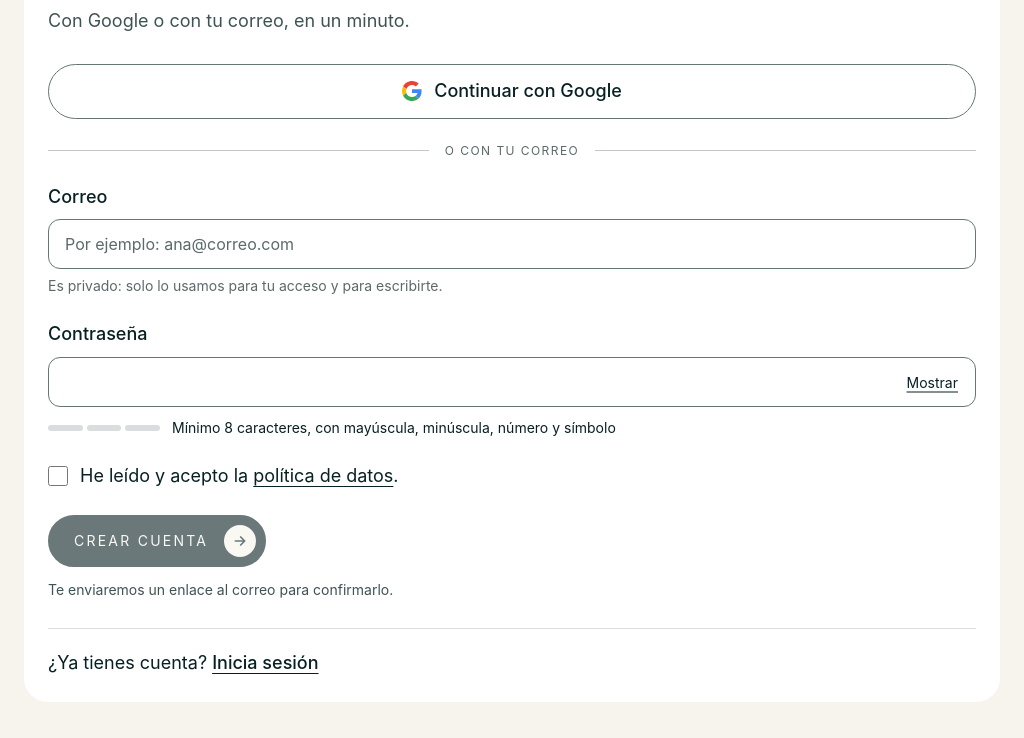
Test: RegistroView › con la casilla marcada y el resto vacío muestra los errores y lleva el foco al correo
(page scrolled)
Click the checkbox labelled "He leído y acepto la política de datos .". click: x=58, y=476
box: [48, 466, 68, 486]
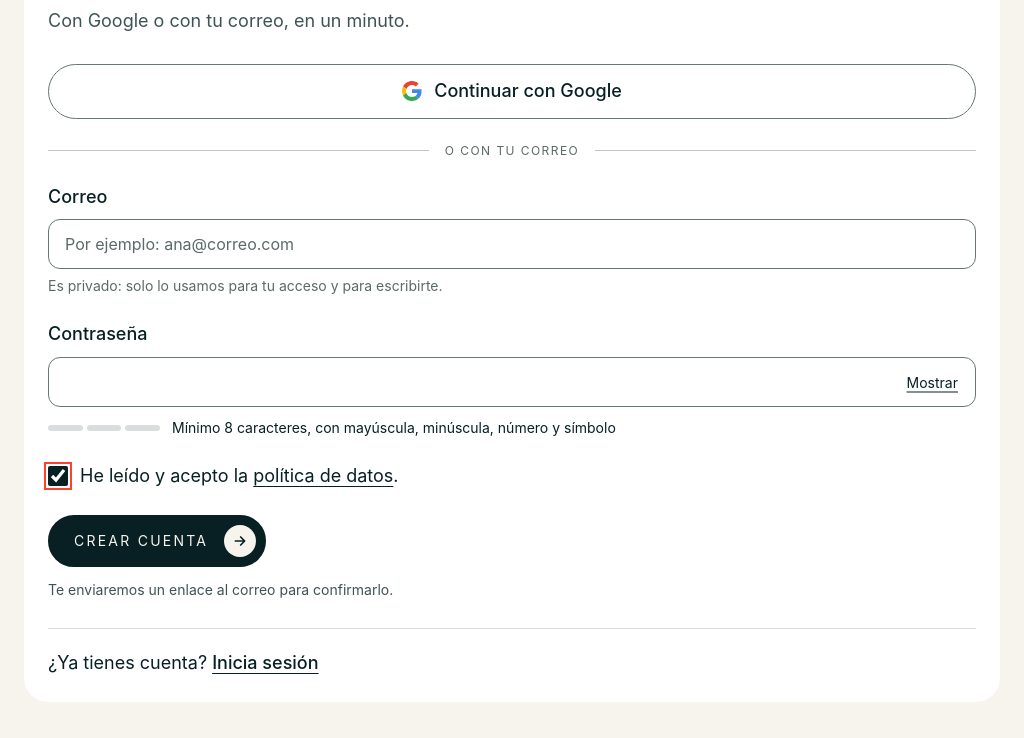
Click the button "Crear cuenta". click: x=157, y=541
box: [48, 515, 266, 567]
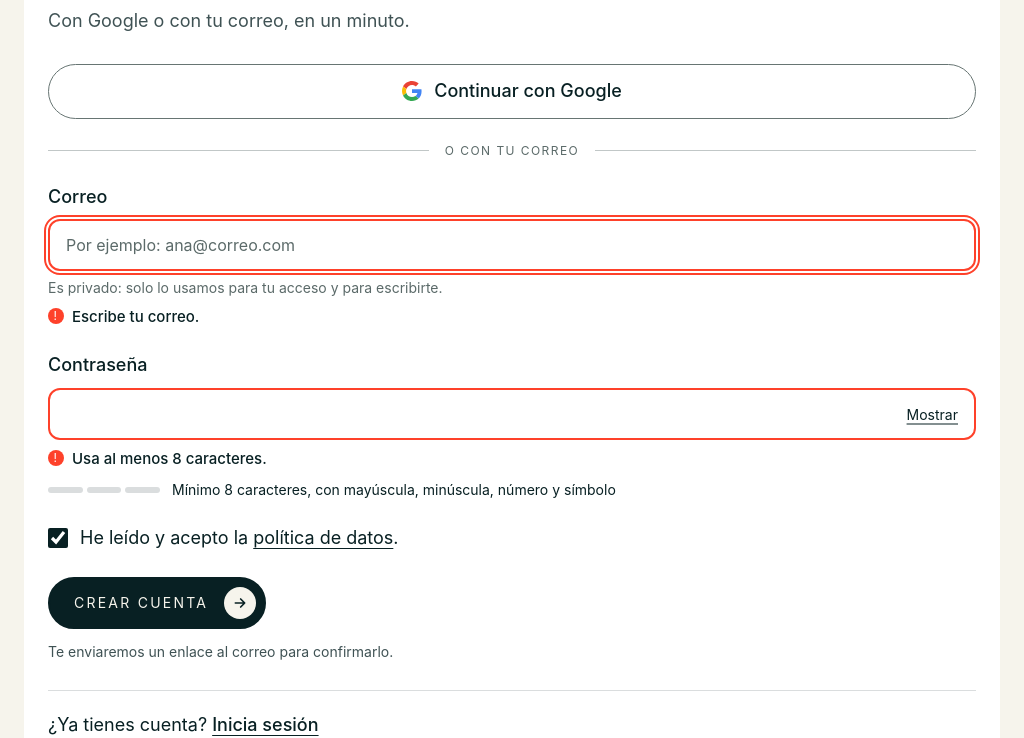
Expected: the text "Escribe tu correo." is shown, [72, 306, 199, 327]
Expected: the text "Usa al menos 8 caracteres." is shown, [72, 448, 267, 469]
